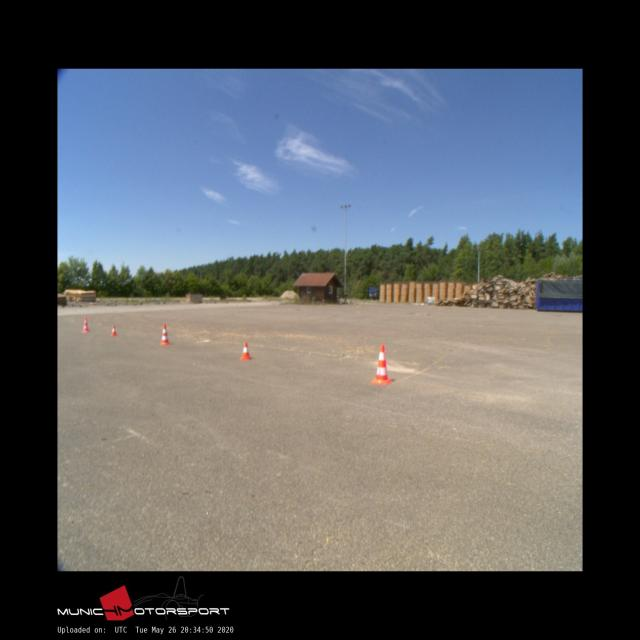large_orange_cone: (372, 344, 391, 384), (159, 323, 170, 344), (82, 317, 90, 331)
orange_cone: (239, 342, 252, 359), (110, 326, 117, 336)
